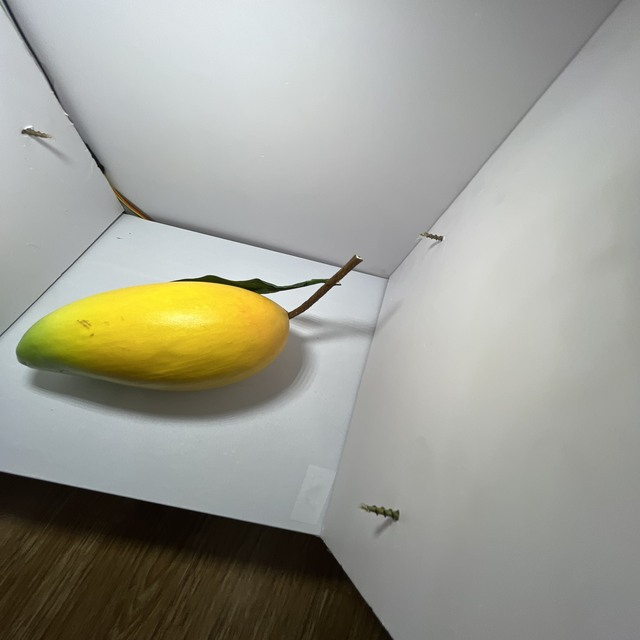Xoai: (10, 273, 297, 395)
